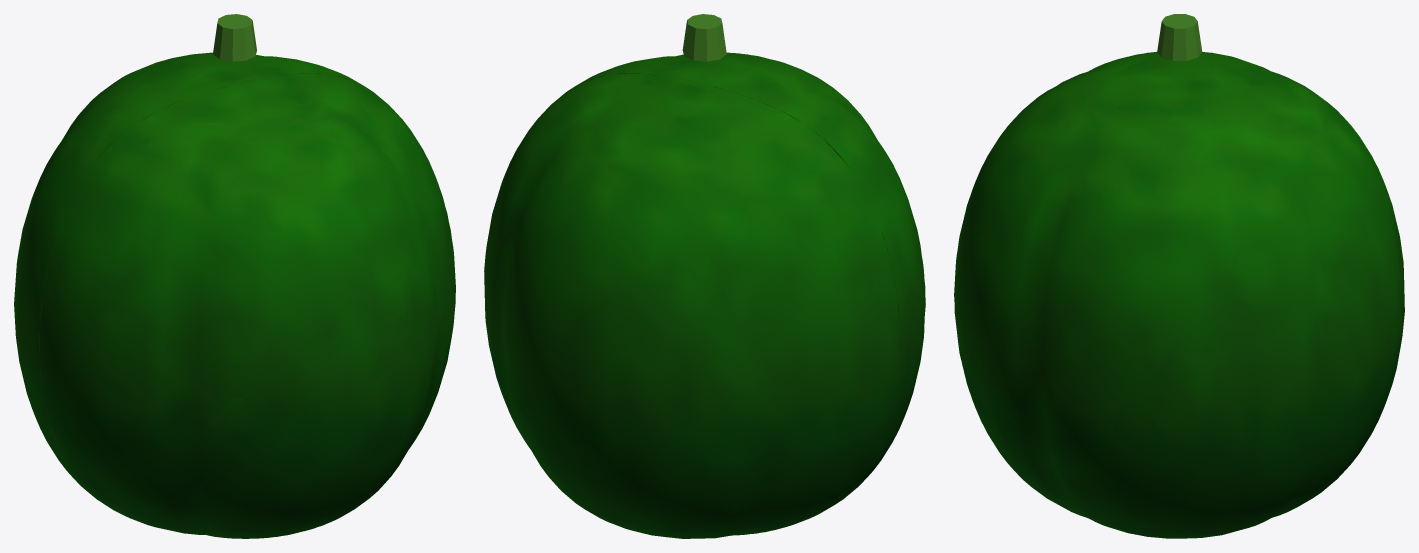
File: poivron-vert.glb
3 renders of one model, left to right at view 1: azimuth 30°, elevation 25°; view 2: azimuth 150°, elevation 25°; view 3: azimuth 270°, elevation 25°, orthographic.
Visible parts, largest first — view 1: entier_peau, moitie_B_peau, moitie_A_peau, entier_extra0; view 2: entier_peau, moitie_A_peau, moitie_B_peau, entier_extra0; view 3: entier_peau, moitie_B_peau, moitie_A_peau, entier_extra0.
Part boxes in pixels (left/top/right/bottom): entier_peau: left=14, top=52, right=455, bottom=538; moitie_B_peau: left=39, top=73, right=455, bottom=538; moitie_A_peau: left=14, top=53, right=350, bottom=472; entier_extra0: left=213, top=14, right=256, bottom=61; entier_peau: left=484, top=53, right=925, bottom=538; moitie_A_peau: left=485, top=73, right=898, bottom=538; moitie_B_peau: left=586, top=52, right=925, bottom=490; entier_extra0: left=682, top=14, right=726, bottom=61; entier_peau: left=954, top=51, right=1404, bottom=538; moitie_B_peau: left=954, top=52, right=1179, bottom=538; moitie_A_peau: left=1179, top=52, right=1404, bottom=538; entier_extra0: left=1157, top=14, right=1202, bottom=60.
Size of the model in its own units: 1.6 by 1.89 by 1.6.
